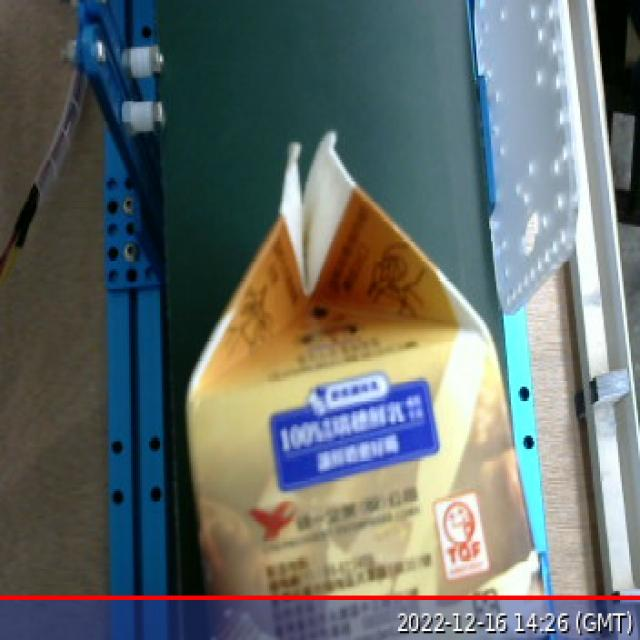non_white_jug: (138, 102, 564, 629)
